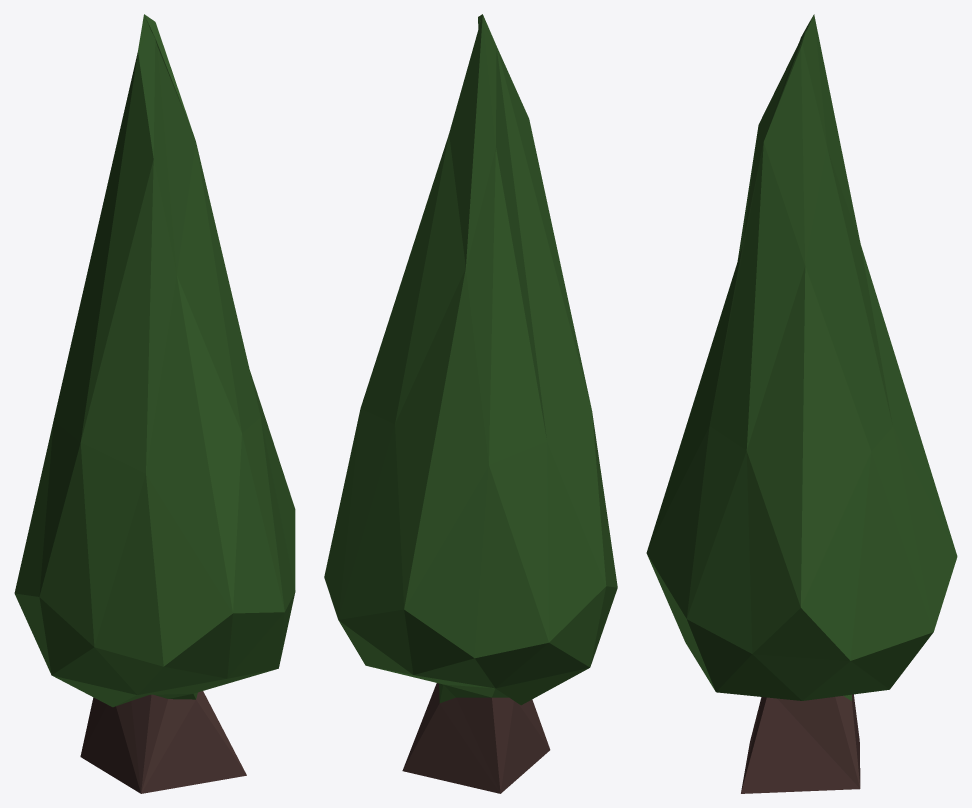
The model's file is desert_tree_5.fbx.
3 views of the same model, side by side, from view 1: azimuth 30°, elevation 25°; view 2: azimuth 150°, elevation 25°; view 3: azimuth 270°, elevation 25° (orthographic).
Visible parts, largest first — view 1: desert_tree_5_LOD0; view 2: desert_tree_5_LOD0; view 3: desert_tree_5_LOD0.
Boxes of the visible parts, x1,y1,x2,y2 form: desert_tree_5_LOD0: (14, 14, 295, 793); desert_tree_5_LOD0: (324, 14, 617, 793); desert_tree_5_LOD0: (646, 14, 957, 793).
Size of what is drawn, in the model's own units: 148 by 412 by 155.
